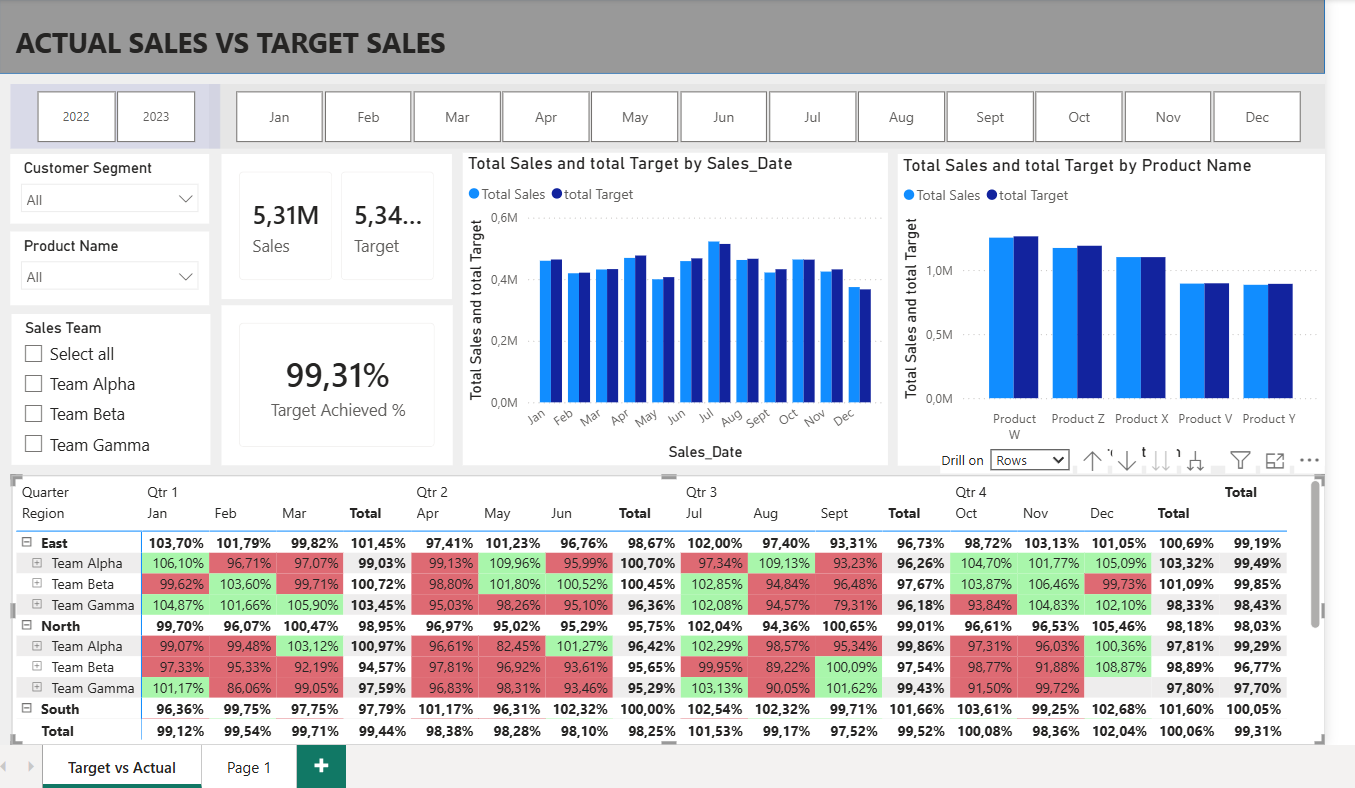

The page's visual inventory and layout, read from the dashboard file:
{"tool":"powerbi","page":{"name":"Target vs Actual","canvas":[1280,720],"ordinal":0},"visuals":[{"type":"shape","box":[0,0,1280,72.4],"z":0},{"type":"textbox","box":[11,17.8,454.2,54.9],"z":1000},{"type":"slicer","fields":{"Values":["Sales Data.Sales_Date"]},"box":[202.7,82,1077.4,62.7],"z":2000},{"type":"slicer","fields":{"Values":["Sales Data.Customer Segment"]},"box":[10.9,149.6,191.8,67.6],"z":3000},{"type":"slicer","fields":{"Values":["Sales Data.Product Name"]},"box":[10.9,224.4,191.8,71.2],"z":4000},{"type":"slicer","fields":{"Values":["Sales Data.Sales Team"]},"box":[12.1,304,191.8,146],"z":5000},{"type":"cardVisual","fields":{"Data":["Sales Data.Total Sales","Sales Data.total Target"]},"box":[215,150.1,222.3,140],"z":6000},{"type":"cardVisual","fields":{"Data":["Sales Data.Target Achieved"]},"box":[214.7,295.6,223.2,154.4],"z":7000},{"type":"clusteredColumnChart","fields":{"Category":["Sales Data.Sales_Date"],"Y":["Sales Data.Total Sales","Sales Data.total Target"]},"box":[447.6,148.4,410.2,301.6],"z":8000},{"type":"clusteredColumnChart","fields":{"Y":["Sales Data.Total Sales","Sales Data.total Target"],"Category":["Sales Data.Product Name"]},"box":[867.4,149.6,412.6,300.4],"z":9000},{"type":"pivotTable","fields":{"Rows":["Sales Data.Region","Sales Data.Sales Team","Sales Data.Sales Representative"],"Values":["Sales Data.Target Achieved"],"Columns":["Sales Data.Sale Date.Variation.Date Hierarchy.Quarter","Sales Data.Sales_Date"]},"box":[12.1,459.7,1268,260.6],"z":10000},{"type":"slicer","fields":{"Values":["Sales Data.Sale Date.Variation.Date Hierarchy.Year"]},"box":[10.9,82,202.7,62.7],"z":11000}]}

Visuals, with their boxes on the page's 1280x720 design canvas (x1, y1, x2, y2). These are canvas units, not pixel positions in the 1355x788 screenshot, which may show the page scaled, cropped or inside an application window:
shape: BBox(0, 0, 1280, 72)
textbox: BBox(11, 18, 465, 73)
slicer - Sales Data.Sales_Date: BBox(203, 82, 1280, 145)
slicer - Sales Data.Customer Segment: BBox(11, 150, 203, 217)
slicer - Sales Data.Product Name: BBox(11, 224, 203, 296)
slicer - Sales Data.Sales Team: BBox(12, 304, 204, 450)
cardVisual - Sales Data.Total Sales x Sales Data.total Target: BBox(215, 150, 437, 290)
cardVisual - Sales Data.Target Achieved: BBox(215, 296, 438, 450)
clusteredColumnChart - Sales Data.Sales_Date x Sales Data.Total Sales: BBox(448, 148, 858, 450)
clusteredColumnChart - Sales Data.Total Sales x Sales Data.total Target: BBox(867, 150, 1280, 450)
pivotTable - Sales Data.Region x Sales Data.Sales Team: BBox(12, 460, 1280, 720)
slicer - Sales Data.Sale Date.Variation.Date Hierarchy.Year: BBox(11, 82, 214, 145)
